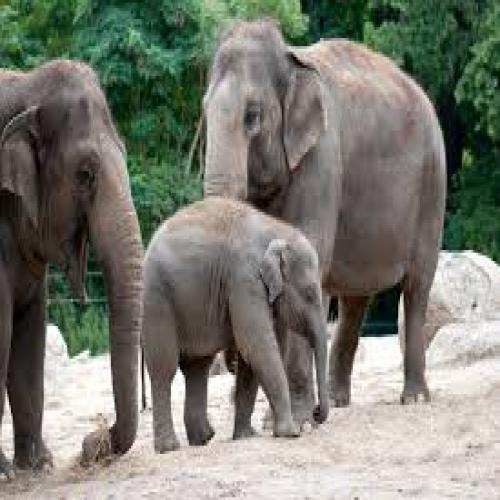asian_elephant-endangered: (200, 18, 447, 402), (0, 60, 143, 475), (139, 196, 330, 450)
